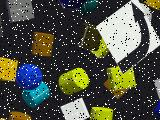Left: (96, 0, 160, 75)
